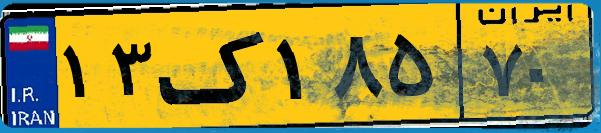0: (525, 38, 570, 115)
1: (270, 28, 330, 110), (57, 26, 110, 100)
3: (110, 28, 158, 98)
5: (385, 28, 445, 110)
7: (475, 38, 525, 113)
8: (330, 28, 385, 110)
ک: (158, 12, 270, 120)
